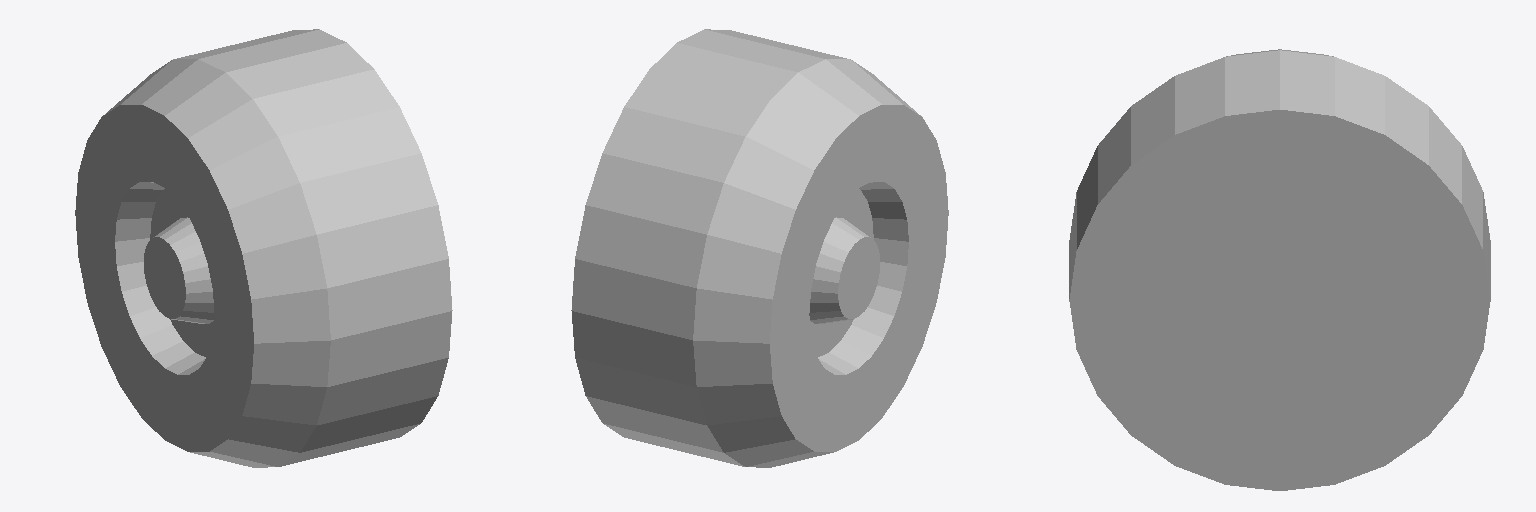
File: wheelTractorDarkBack.obj
3 views of the same model, side by side, from view 1: azimuth 30°, elevation 25°; view 2: azimuth 150°, elevation 25°; view 3: azimuth 270°, elevation 25° (orthographic).
Visible parts, largest first — view 1: wheelTractorDarkBack; view 2: wheelTractorDarkBack; view 3: wheelTractorDarkBack.
Part boxes in pixels (x1,y1,x2,y2): wheelTractorDarkBack: (75, 29, 452, 467); wheelTractorDarkBack: (571, 29, 948, 467); wheelTractorDarkBack: (1069, 49, 1490, 490).
Bounding box in the file's own units: 0.3282 × 0.6564 × 0.6564.